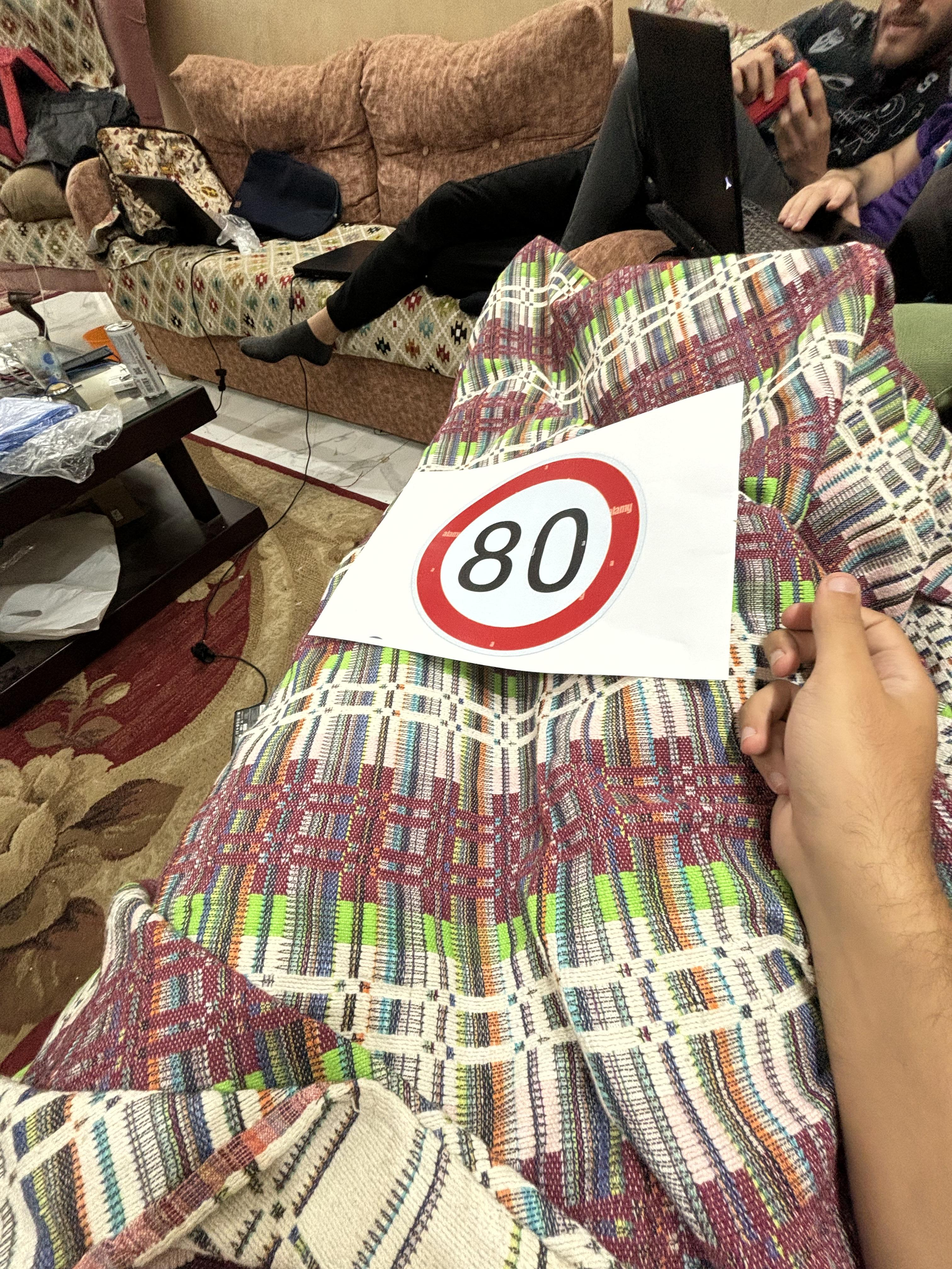80-Speed: (429, 444, 641, 656)
